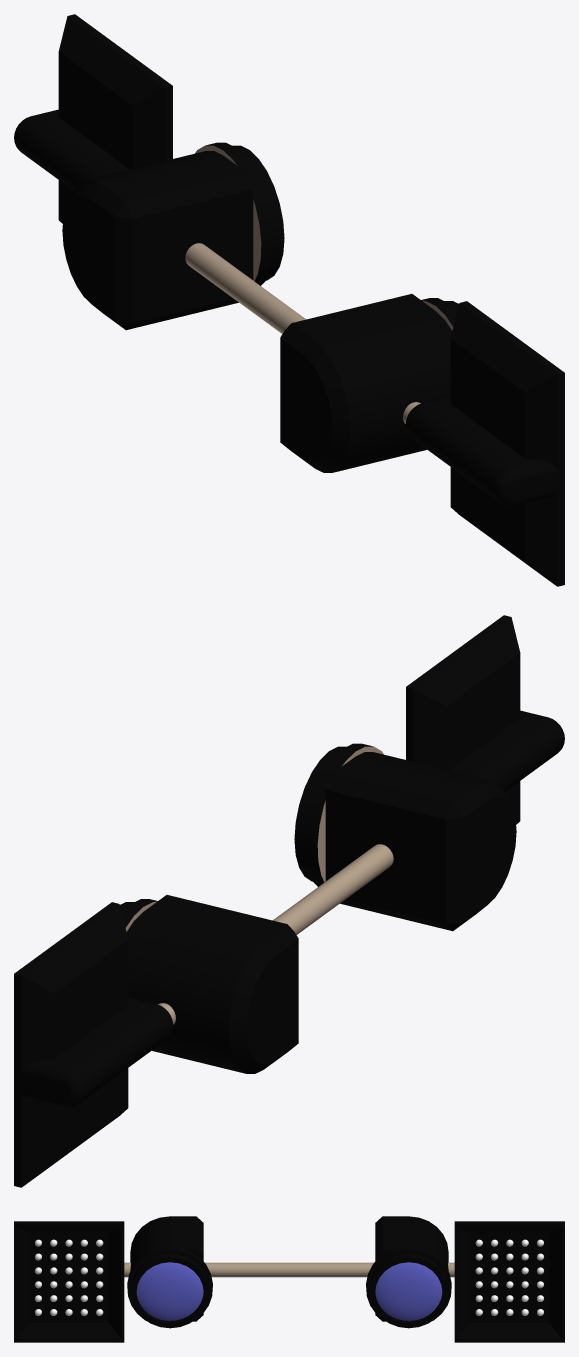
File: mast_camera.dae
3 renders of one model, top to bottom at view 1: azimuth 30°, elevation 25°; view 2: azimuth 150°, elevation 25°; view 3: azimuth 270°, elevation 25°, orthographic. The views are drawn at different scales.
Visible parts, largest first — view 1: _3DGeom-168, _3DGeom-171; view 2: _3DGeom-168, _3DGeom-171; view 3: _3DGeom-168, _3DGeom-169, _3DGeom-170, _3DGeom-171.
Boxes of the visible parts, x1,y1,x2,y2 form: _3DGeom-168: (14,14,564,586); _3DGeom-171: (185,145,453,423); _3DGeom-168: (14,615,564,1187); _3DGeom-171: (125,746,393,1024); _3DGeom-168: (14,1216,564,1342); _3DGeom-169: (136,1262,442,1320); _3DGeom-170: (35,1239,543,1315); _3DGeom-171: (124,1262,454,1277).
Size of the model in its own units: 0.168 by 0.9 by 0.215.
